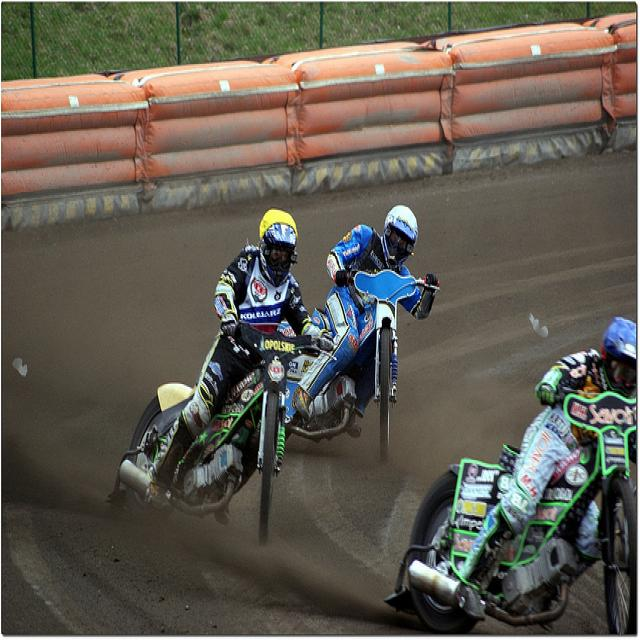motor: (382, 386, 637, 633), (120, 322, 333, 542), (297, 265, 438, 456)
